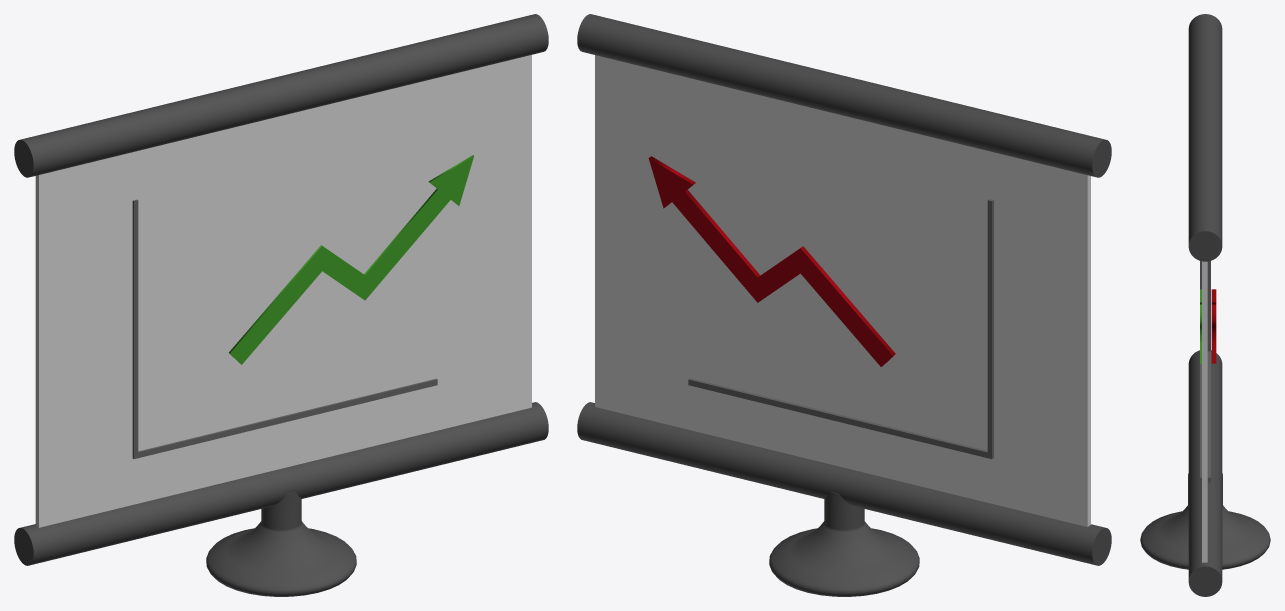
Rendered from chart.glb.
3 renders of one model, left to right at view 1: azimuth 30°, elevation 25°; view 2: azimuth 150°, elevation 25°; view 3: azimuth 270°, elevation 25°, orthographic. The views are drawn at different scales.
Visible parts, largest first — view 1: Plane_3, Iron.002_2, Chart.001_4, Line_1; view 2: Plane_3, Iron.002_2, Chart.001_4.001, Line_1; view 3: Iron.002_2, Plane_3, Line_1, Chart.001_4.001.
Boxes of the visible parts, x1=… form: Plane_3: x1=35, y1=55, x2=531, y2=527; Iron.002_2: x1=14, y1=14, x2=548, y2=596; Chart.001_4: x1=229, y1=155, x2=473, y2=364; Line_1: x1=132, y1=199, x2=437, y2=458; Plane_3: x1=595, y1=55, x2=1090, y2=526; Iron.002_2: x1=577, y1=14, x2=1111, y2=596; Chart.001_4.001: x1=648, y1=156, x2=895, y2=366; Line_1: x1=688, y1=199, x2=993, y2=458; Iron.002_2: x1=1140, y1=14, x2=1270, y2=596; Plane_3: x1=1202, y1=261, x2=1207, y2=562; Line_1: x1=1200, y1=261, x2=1210, y2=482; Chart.001_4.001: x1=1211, y1=289, x2=1216, y2=363.
Size of the model in its own units: 1 by 0.9091 by 0.2549.
